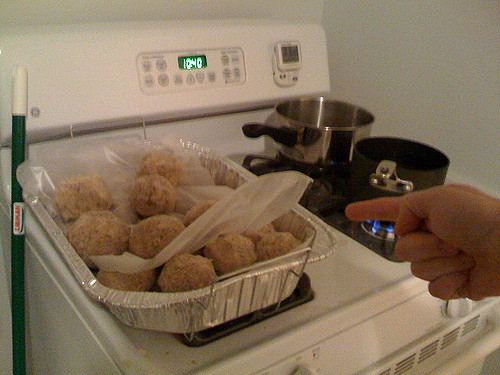meatballs: (127, 219, 216, 264), (133, 169, 187, 208)
